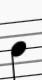note: (5, 18, 39, 78)
